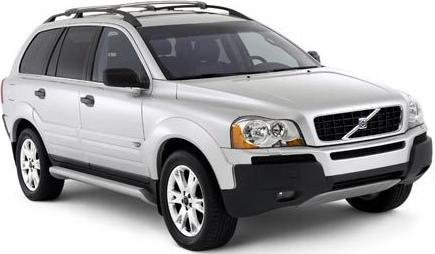front_view: (228, 85, 433, 221)
headlight: (224, 109, 309, 156)
side_glass: (45, 21, 157, 101)
